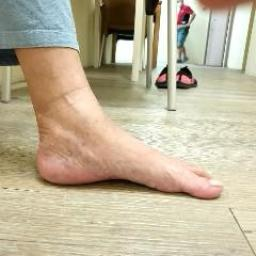Medial View -Left Foot-: (14, 87, 238, 224)
